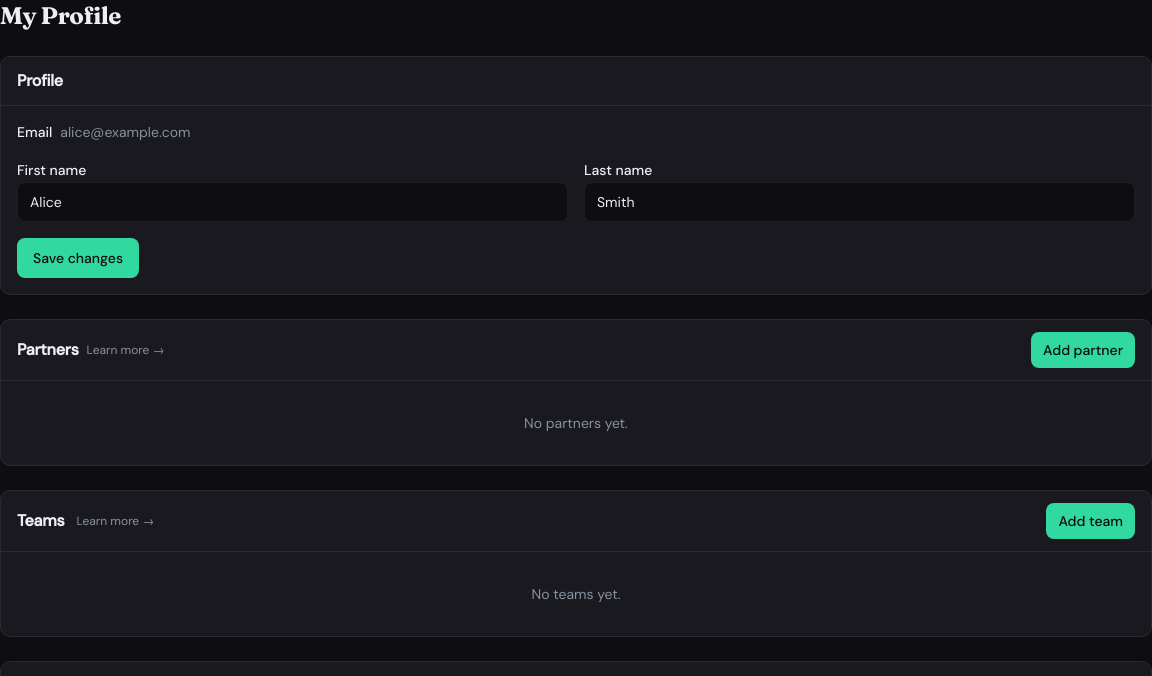
Test: MyProfilePage › does not submit, and says why, when a name is blank
Step 1. Clear the field labelled "First name" → (292, 202), box [17,182,568,222]
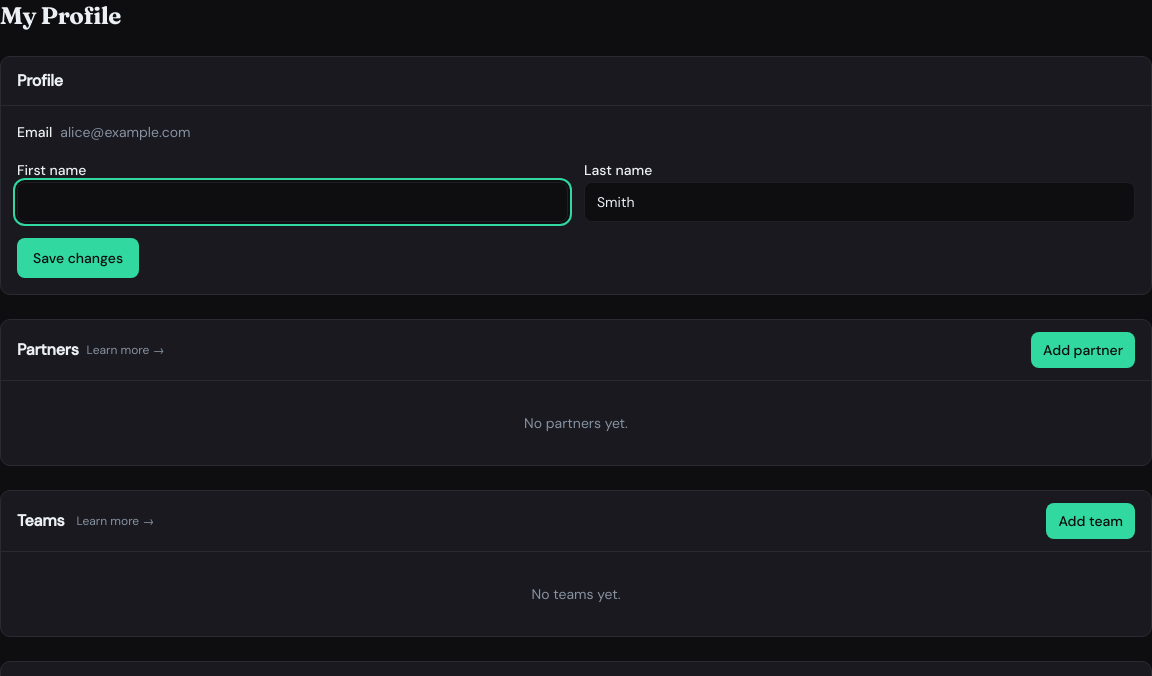
Step 2. Click the button "Save changes" → (78, 258), box [17,238,139,278]
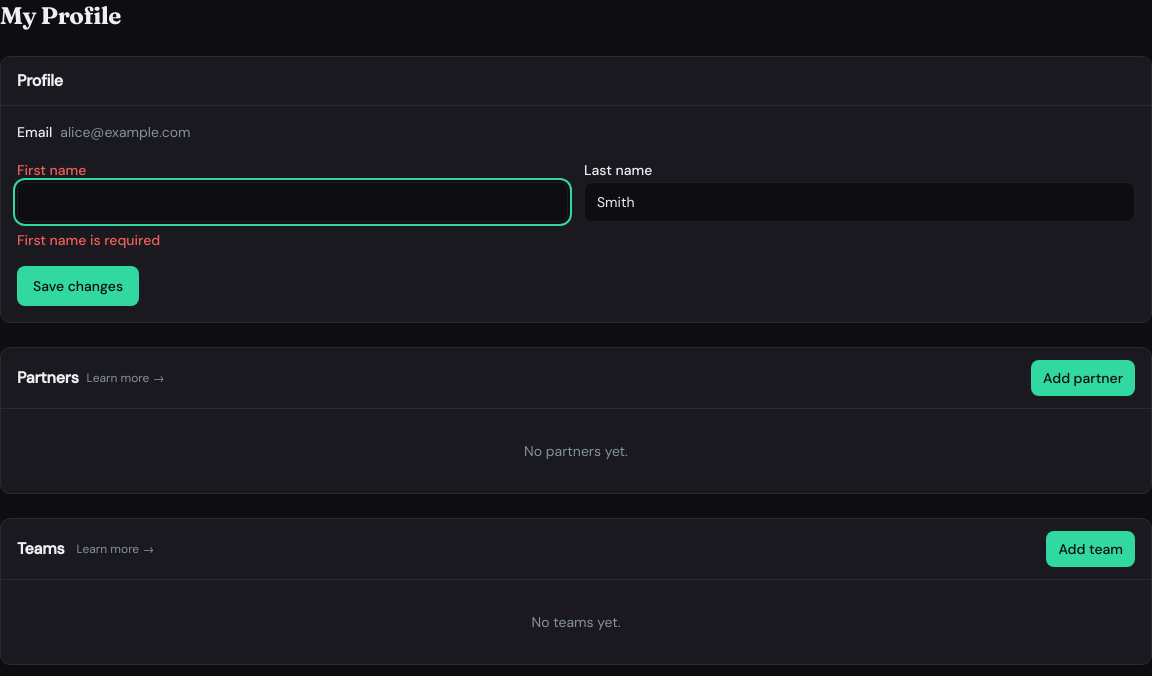
Check: the text "First name is required" is shown, box [17,231,160,249]
